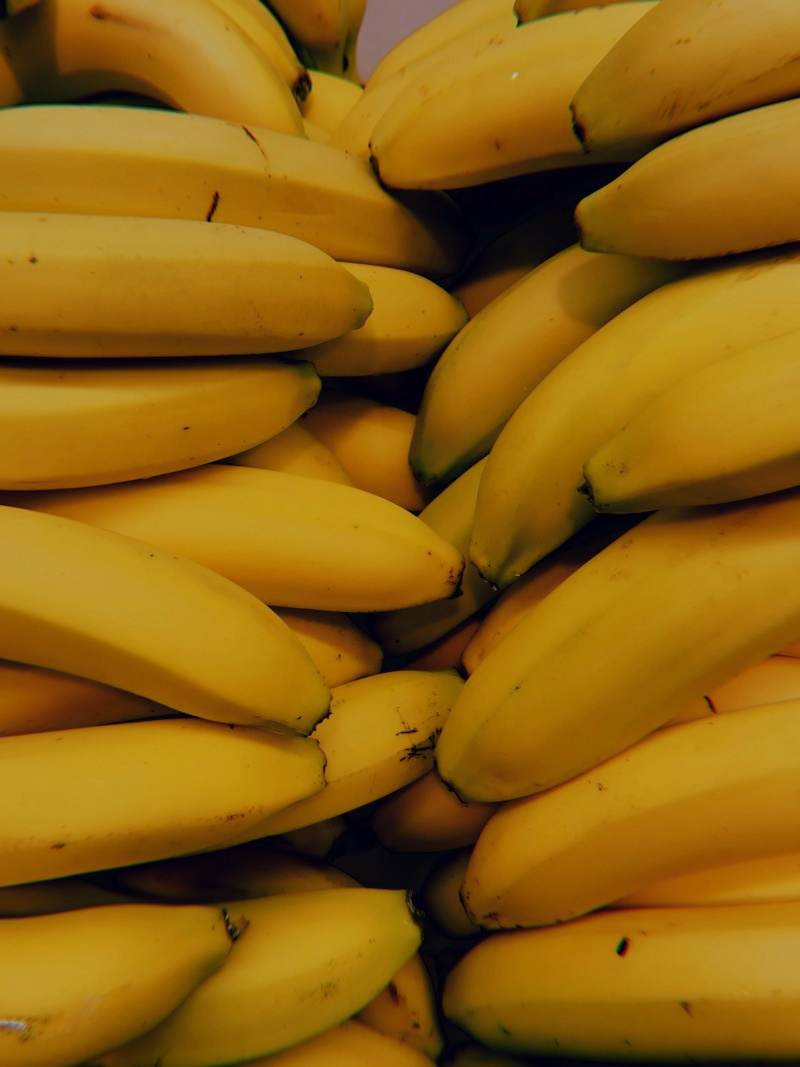banana peel: (2, 0, 800, 1006), (442, 689, 800, 1065), (0, 504, 337, 892), (460, 243, 800, 589), (438, 488, 799, 807), (330, 0, 799, 195), (1, 880, 440, 1067), (457, 698, 799, 933), (0, 108, 461, 276), (405, 241, 686, 494), (9, 460, 470, 612), (436, 889, 800, 1066), (1, 717, 335, 890), (0, 213, 374, 359), (1, 0, 346, 137), (1, 354, 329, 492), (582, 324, 800, 514), (573, 94, 799, 263)
